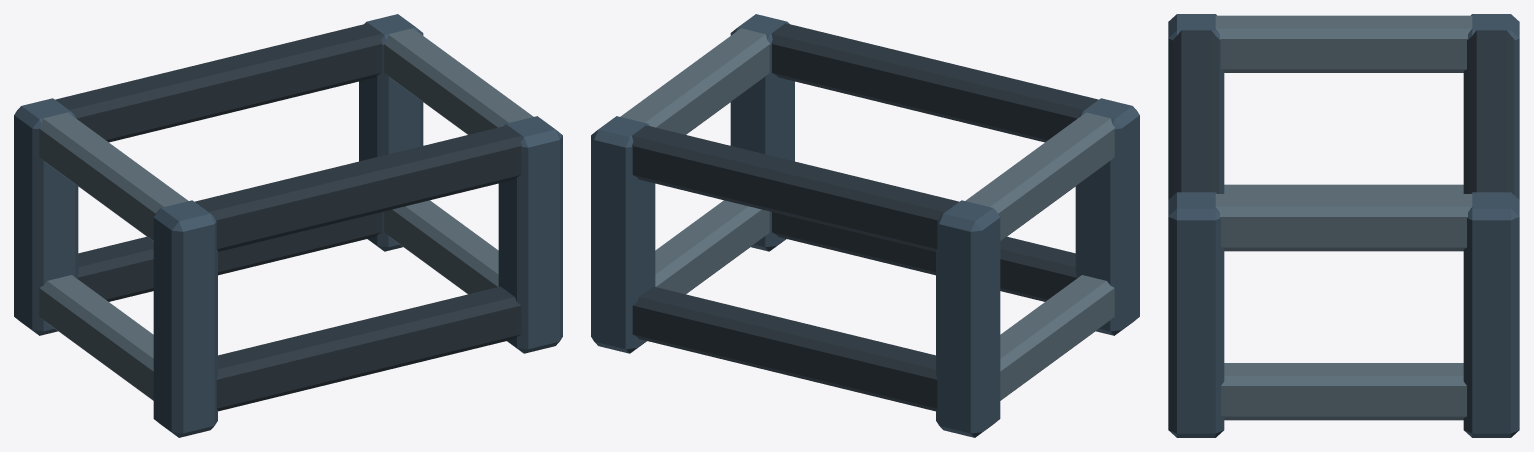
File: survey-cargo-frame.glb
3 renders of one model, left to right at view 1: azimuth 30°, elevation 25°; view 2: azimuth 150°, elevation 25°; view 3: azimuth 270°, elevation 25°, orthographic. The views are drawn at different scales.
Parts seen in each view (by area): view 1: survey-cargo-frame; view 2: survey-cargo-frame; view 3: survey-cargo-frame.
Boxes of the visible parts, x1,y1,x2,y2 form: survey-cargo-frame: [14, 14, 562, 437]; survey-cargo-frame: [591, 14, 1139, 437]; survey-cargo-frame: [1168, 14, 1519, 437].
Size of the model in its own units: 1.36 by 0.72 by 1.
1 material, 1 textured.
